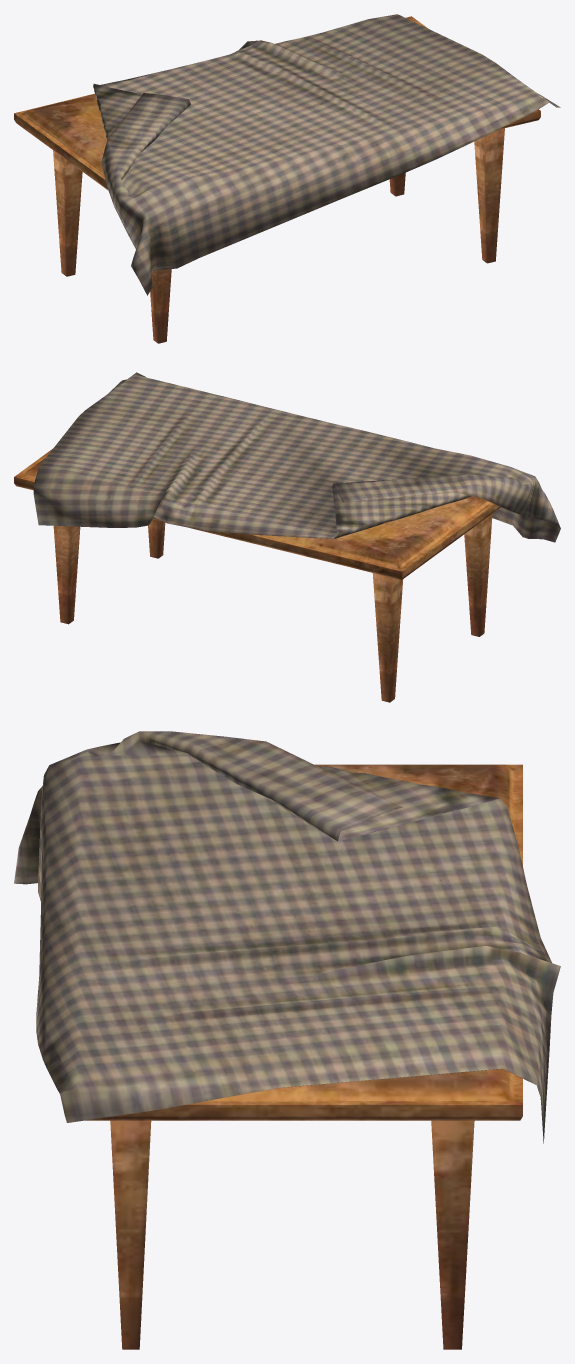
The model's file is dining-table.glb.
3 views of the same model, one above another, from view 1: azimuth 30°, elevation 25°; view 2: azimuth 150°, elevation 25°; view 3: azimuth 270°, elevation 25° (orthographic). The views are drawn at different scales.
Visible parts, largest first — view 1: dining_table_cloth, dining_table; view 2: dining_table_cloth, dining_table; view 3: dining_table_cloth, dining_table.
Boxes of the visible parts, x1=… form: dining_table_cloth: x1=93, y1=14, x2=560, y2=295; dining_table: x1=14, y1=16, x2=540, y2=343; dining_table_cloth: x1=33, y1=372, x2=560, y2=542; dining_table: x1=14, y1=448, x2=501, y2=702; dining_table_cloth: x1=14, y1=731, x2=560, y2=1143; dining_table: x1=85, y1=764, x2=522, y2=1349.
Size of the model in its own units: 2.26 by 0.877 by 1.39.
1 material, 1 textured.
